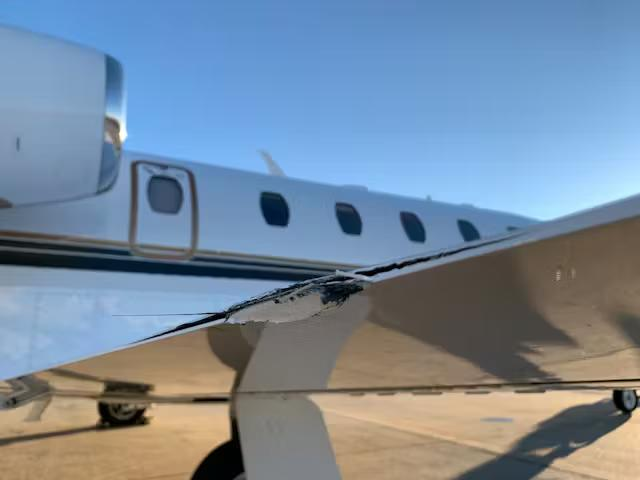Fuselage_damage: (187, 256, 396, 346)
